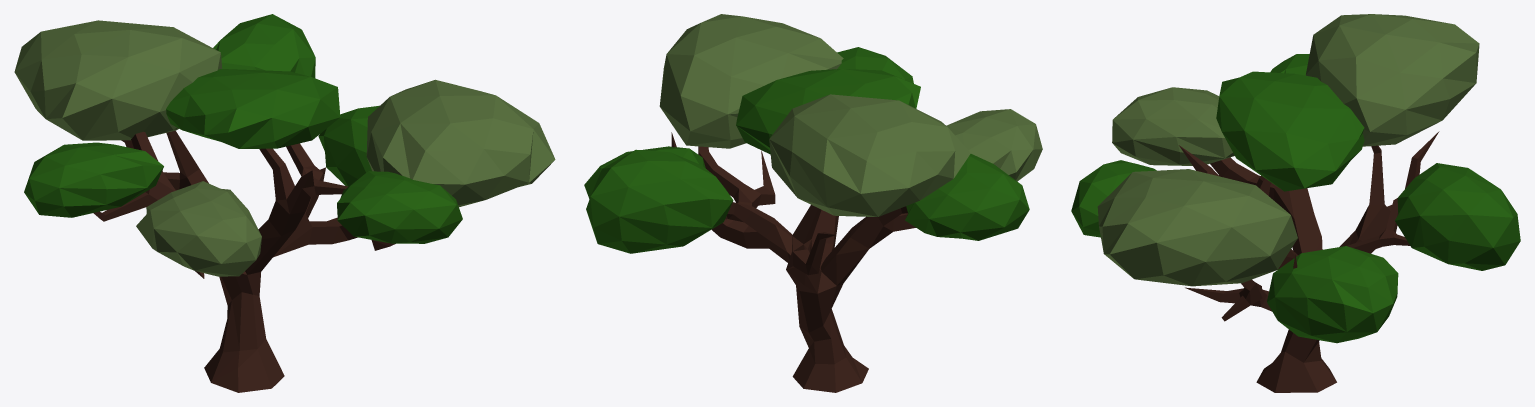
The model's file is Tree_6 Asia.fbx.
3 renders of one model, left to right at view 1: azimuth 30°, elevation 25°; view 2: azimuth 150°, elevation 25°; view 3: azimuth 270°, elevation 25°, orthographic. The views are drawn at different scales.
Visible parts, largest first — view 1: Tree_6; view 2: Tree_6; view 3: Tree_6.
Boxes of the visible parts, x1,y1,x2,y2 form: Tree_6: (14,14,555,392); Tree_6: (584,14,1042,392); Tree_6: (1071,14,1520,392).
Size of the model in its own units: 5.7 by 4.15 by 5.39.
